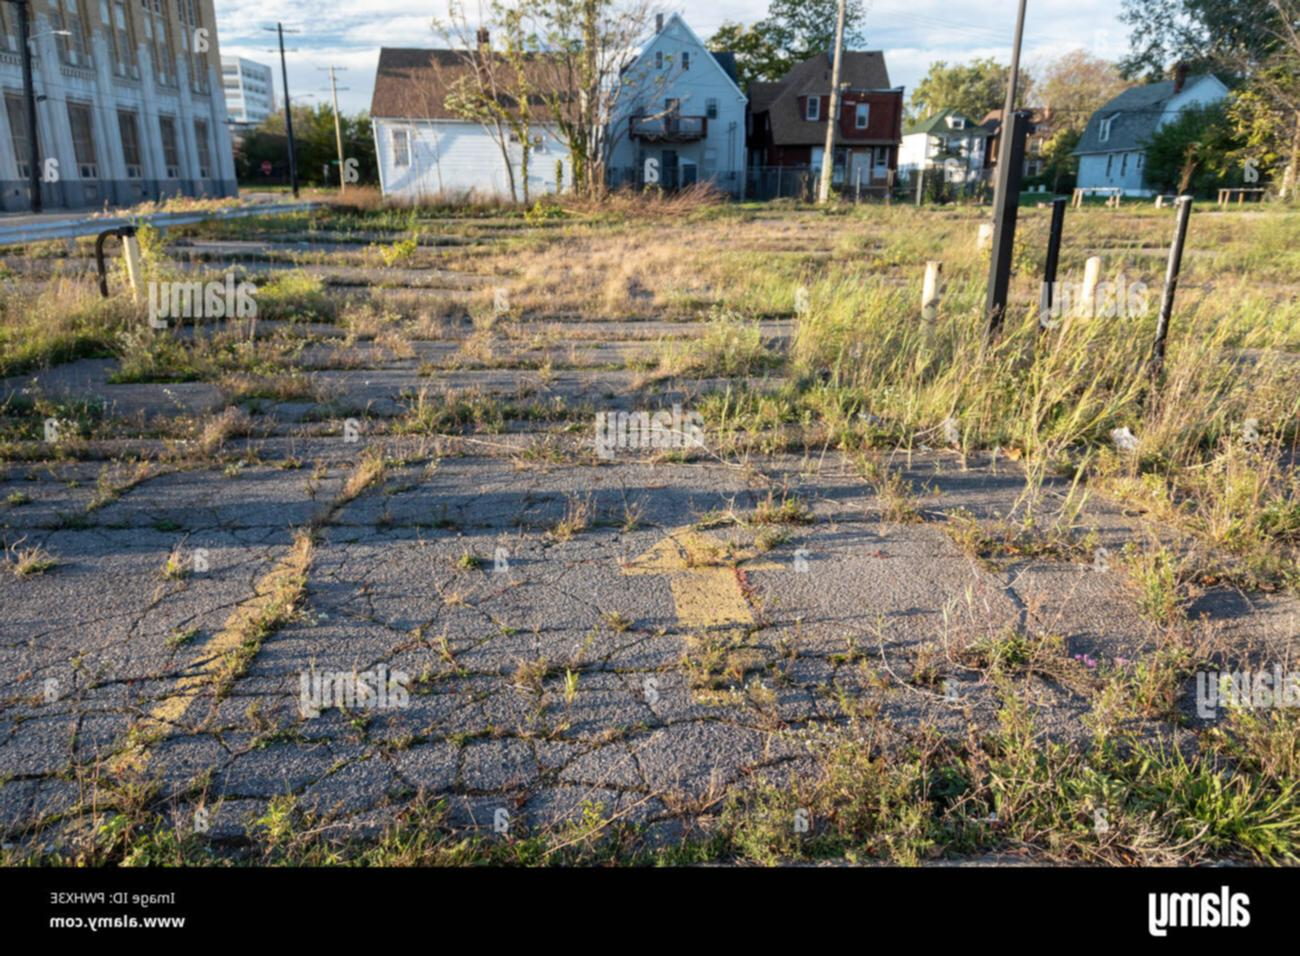overgrown grass: (1, 663, 1300, 864), (699, 293, 1300, 534), (474, 206, 944, 319), (934, 216, 1298, 315), (202, 534, 314, 699), (908, 575, 1078, 673), (1, 278, 138, 377), (160, 407, 244, 485), (416, 393, 542, 441), (404, 353, 649, 378), (665, 323, 768, 379), (120, 330, 225, 382), (1132, 545, 1213, 611), (944, 522, 1086, 557), (523, 423, 617, 473), (224, 297, 477, 313), (232, 368, 325, 407), (345, 319, 439, 355), (678, 632, 741, 686), (248, 249, 469, 264), (348, 446, 414, 494), (242, 230, 477, 243), (436, 330, 658, 342), (207, 211, 408, 223), (758, 488, 805, 533), (685, 507, 739, 544), (504, 660, 555, 692), (875, 490, 920, 519), (571, 488, 597, 533), (423, 663, 466, 689), (618, 493, 646, 528), (456, 544, 490, 572), (227, 276, 461, 279)
